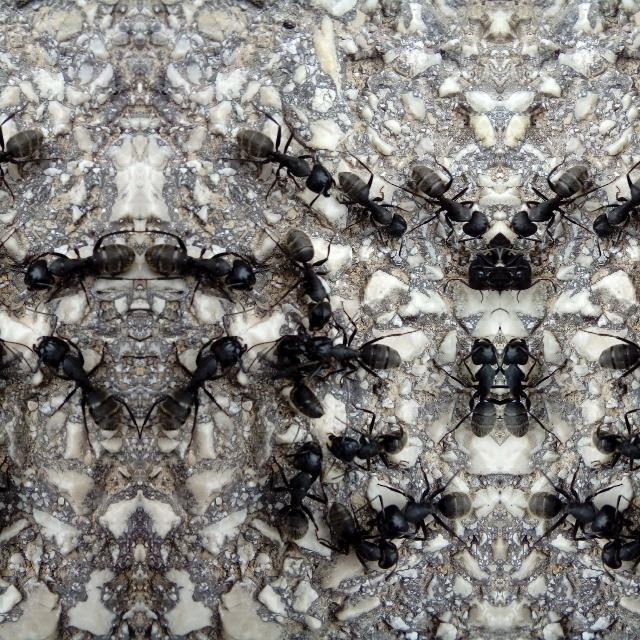Camponotus: (144, 317, 252, 437), (27, 317, 134, 437), (367, 458, 488, 554), (215, 106, 338, 200), (512, 458, 632, 554), (146, 215, 260, 303), (18, 215, 132, 303), (264, 418, 340, 544), (327, 156, 427, 248), (291, 303, 411, 375), (266, 220, 344, 324), (401, 138, 487, 230), (512, 138, 598, 230), (308, 484, 392, 576), (572, 156, 640, 247), (264, 313, 320, 421), (0, 105, 62, 198), (453, 320, 499, 442), (500, 320, 546, 442), (322, 413, 410, 465), (588, 303, 640, 375), (606, 482, 640, 576), (588, 413, 640, 465), (0, 313, 14, 421)
